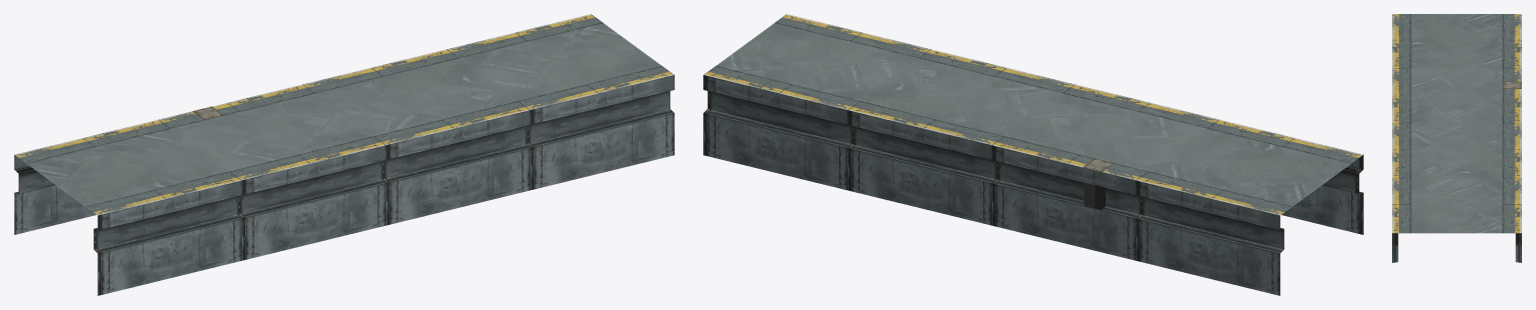
The model's file is SC02_groundonly_v17.fbx.
3 renders of one model, left to right at view 1: azimuth 30°, elevation 25°; view 2: azimuth 150°, elevation 25°; view 3: azimuth 270°, elevation 25°, orthographic. The views are drawn at different scales.
Visible parts, largest first — view 1: Plane.048, Plane.009, Plane.008, Plane.006; view 2: Plane.048, Plane.009, Plane.008, Plane.006, Cube.036; view 3: Plane.009, Plane.008, Plane.048, Plane.006.
Part boxes in pixels (bbox=[...]): Plane.048: bbox=[14, 119, 241, 295]; Plane.009: bbox=[447, 14, 674, 190]; Plane.008: bbox=[303, 49, 530, 225]; Plane.006: bbox=[159, 84, 385, 260]; Plane.048: bbox=[1136, 119, 1363, 295]; Plane.009: bbox=[703, 14, 930, 190]; Plane.008: bbox=[847, 49, 1074, 225]; Plane.006: bbox=[992, 84, 1218, 260]; Cube.036: bbox=[1084, 183, 1105, 209]; Plane.009: bbox=[1392, 178, 1521, 262]; Plane.008: bbox=[1392, 123, 1521, 178]; Plane.048: bbox=[1392, 14, 1521, 68]; Plane.006: bbox=[1392, 69, 1521, 123].
Bounding box in the file's own units: 1293 × 173 × 323.
